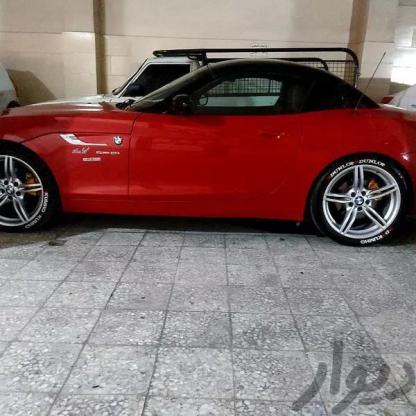Car: (0, 55, 416, 279), (75, 22, 322, 110)
